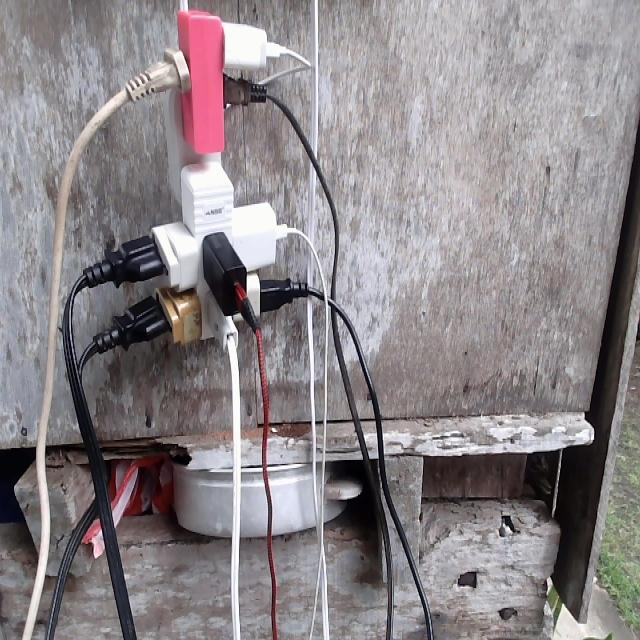-: (121, 9, 293, 355)
